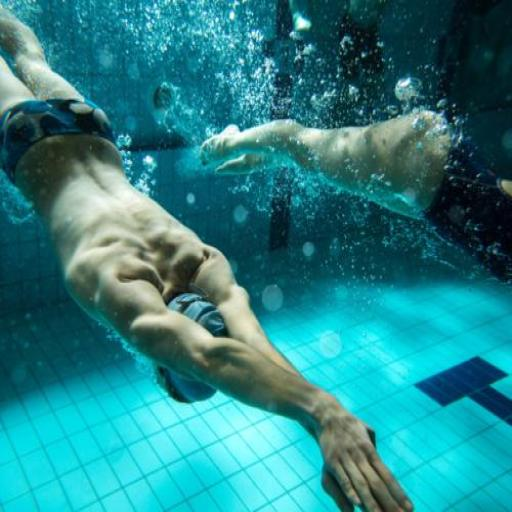swimming: (0, 0, 417, 511), (197, 105, 511, 292)
